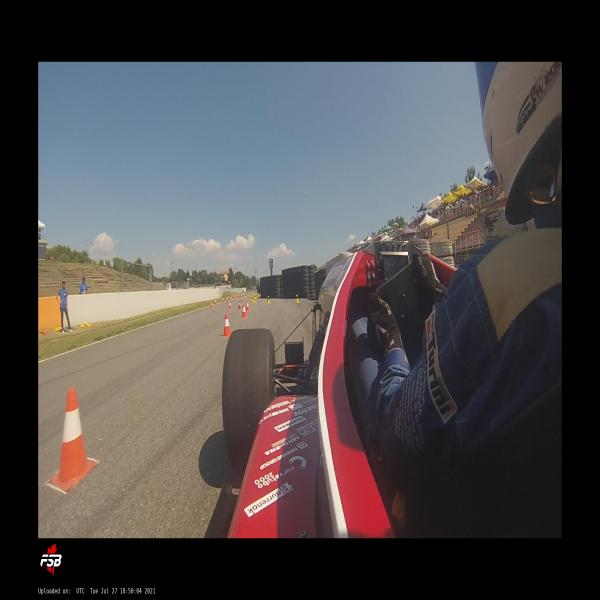orange_cone: (51, 388, 97, 491), (222, 314, 231, 337), (241, 304, 247, 318), (245, 301, 250, 311), (237, 301, 241, 310), (228, 301, 232, 309), (210, 301, 212, 308), (215, 299, 216, 305)
yellow_cone: (296, 294, 300, 303), (267, 296, 270, 304), (250, 296, 253, 302), (253, 297, 255, 303)
